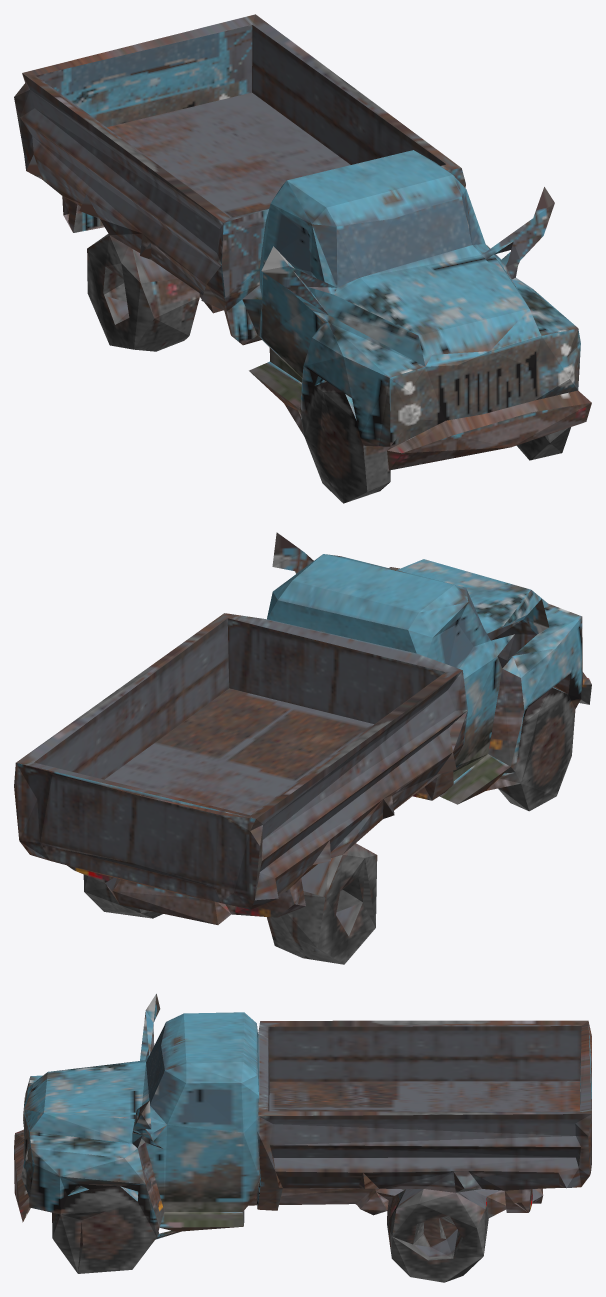
3 views of the same model, one above another, from view 1: azimuth 30°, elevation 25°; view 2: azimuth 150°, elevation 25°; view 3: azimuth 270°, elevation 25° (orthographic). The views are drawn at different scales.
Size of the model in its own units: 2.91 by 2.41 by 6.4.
Materials: 1 (1 with a texture image).
